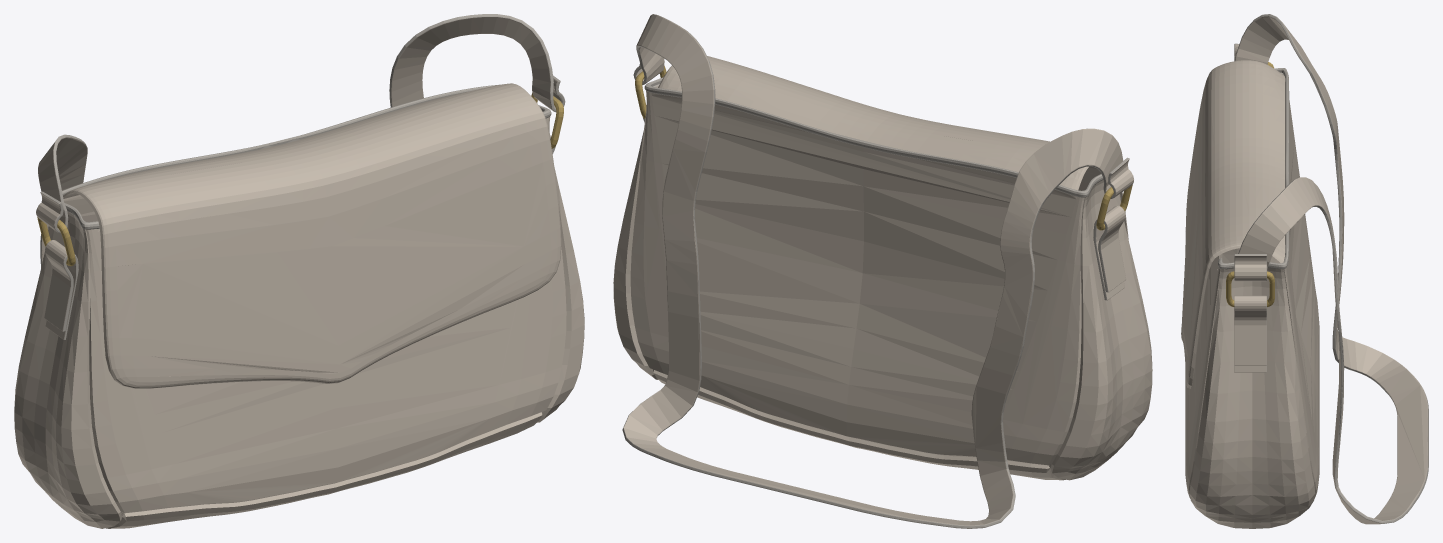
File: handbag.obj
The picture shows the model from 3 angles, left to right: view 1: azimuth 30°, elevation 25°; view 2: azimuth 150°, elevation 25°; view 3: azimuth 270°, elevation 25°; orthographic projection. The views are drawn at different scales.
Visible parts, largest first — view 1: handbag_Куб.001, strap_Куб.007; view 2: handbag_Куб.001, strap_Куб.007; view 3: handbag_Куб.001, strap_Куб.007.
Boxes of the visible parts, x1,y1,x2,y2 form: handbag_Куб.001: (14, 83, 584, 528); strap_Куб.007: (36, 14, 565, 267); handbag_Куб.001: (613, 56, 1152, 480); strap_Куб.007: (622, 14, 1133, 528); handbag_Куб.001: (1181, 60, 1319, 528); strap_Куб.007: (1234, 14, 1428, 524).
Size of the model in its own units: 26.15 by 19.35 by 12.4.
